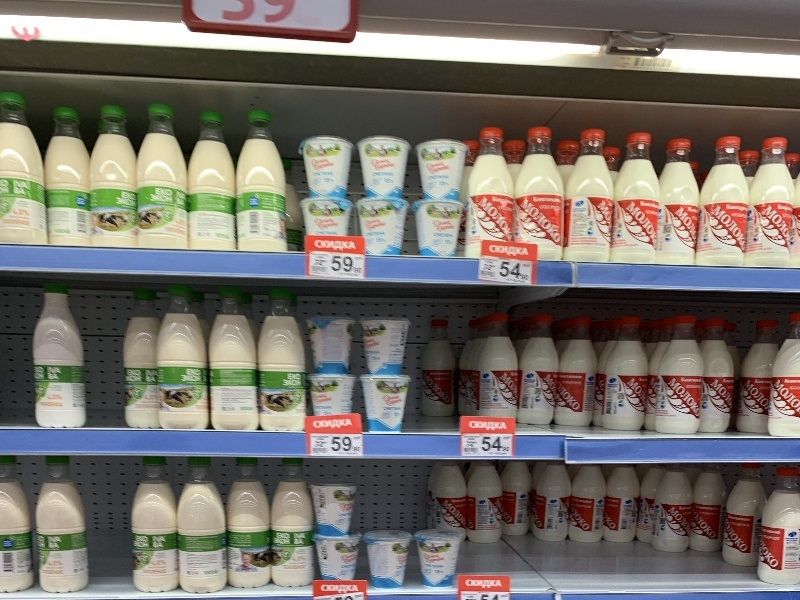milk: (26, 282, 96, 434), (152, 285, 218, 434), (82, 103, 147, 253), (29, 453, 97, 595), (134, 101, 197, 253), (231, 106, 293, 256), (202, 284, 264, 434), (182, 108, 243, 256), (697, 135, 761, 267), (173, 456, 234, 592), (650, 314, 715, 441), (125, 454, 184, 593), (592, 312, 658, 436), (258, 285, 310, 434), (224, 456, 279, 594), (610, 130, 665, 266), (566, 127, 620, 265), (520, 123, 570, 265), (463, 123, 518, 247), (271, 458, 321, 594), (746, 134, 794, 268), (519, 309, 564, 430), (755, 467, 800, 585), (554, 314, 600, 429), (414, 313, 462, 422), (649, 461, 696, 553), (466, 458, 503, 547)
